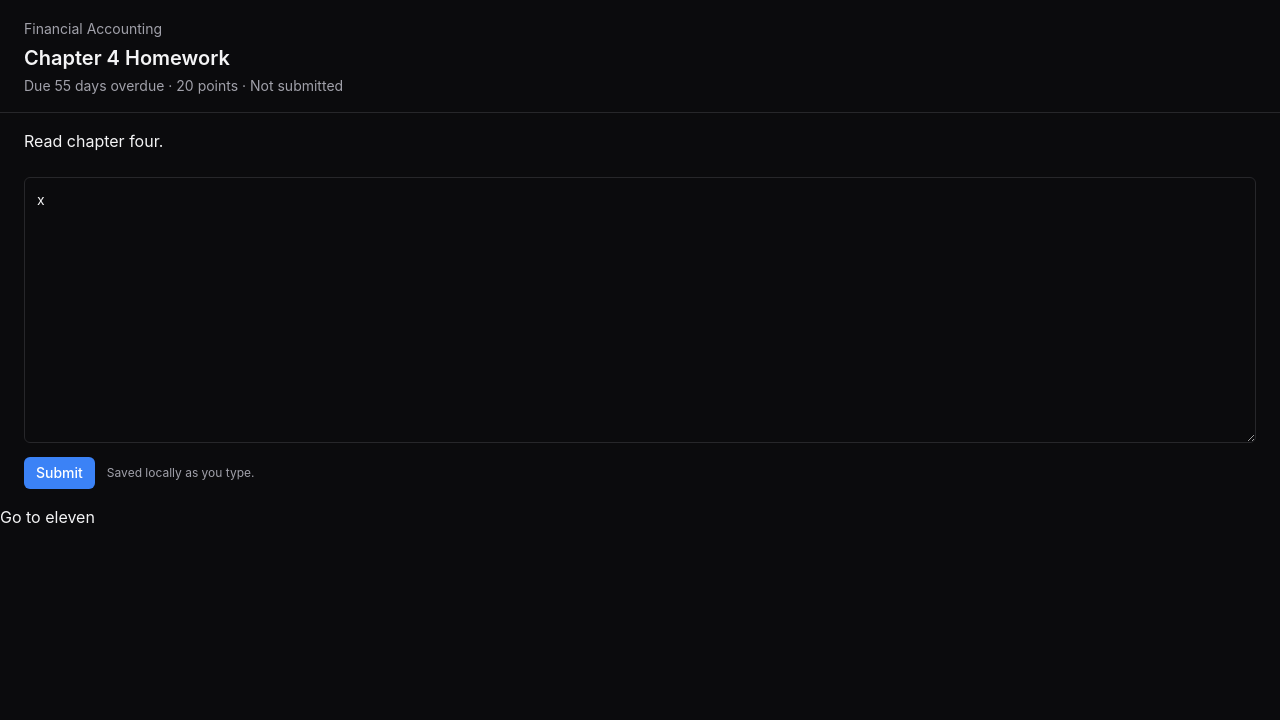
Assignment route — submission wiring › clears a stale outcome banner when navigating to a different assignment
Click the button "Submit".
click(59, 473)  # box left=24, top=457, right=95, bottom=489
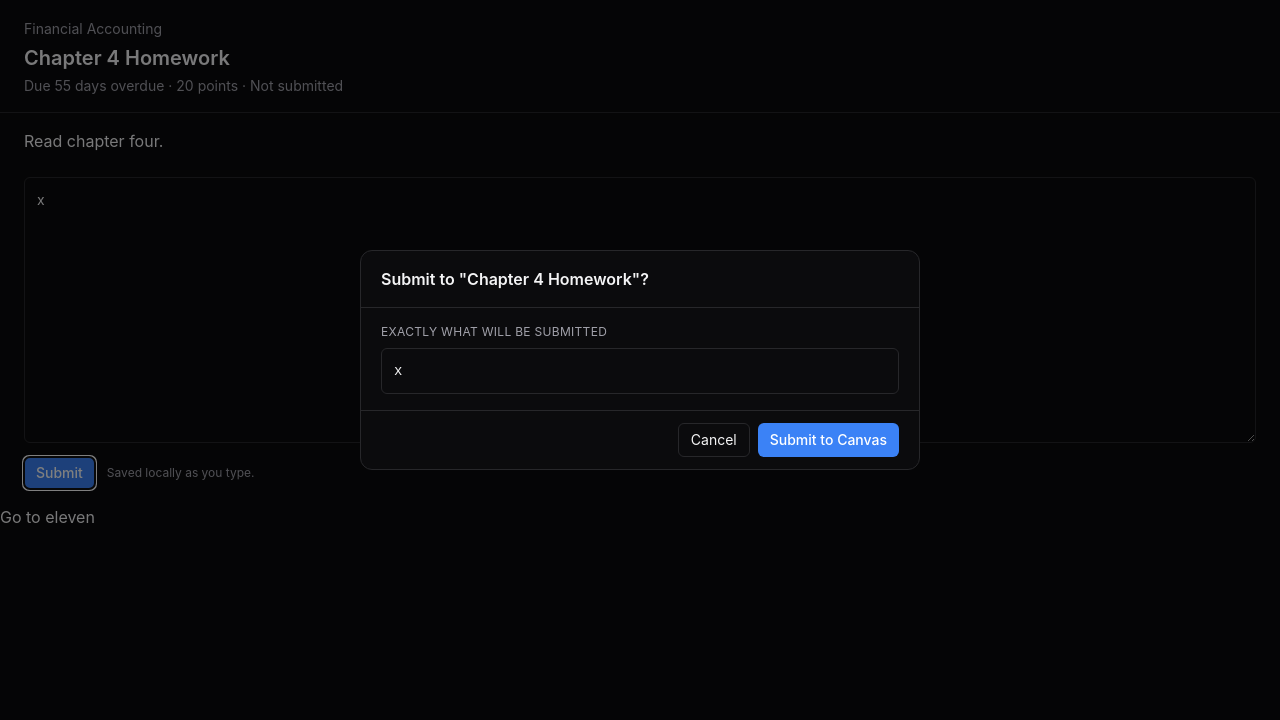
Click the button "Submit to Canvas".
click(828, 440)  # box left=758, top=423, right=899, bottom=457
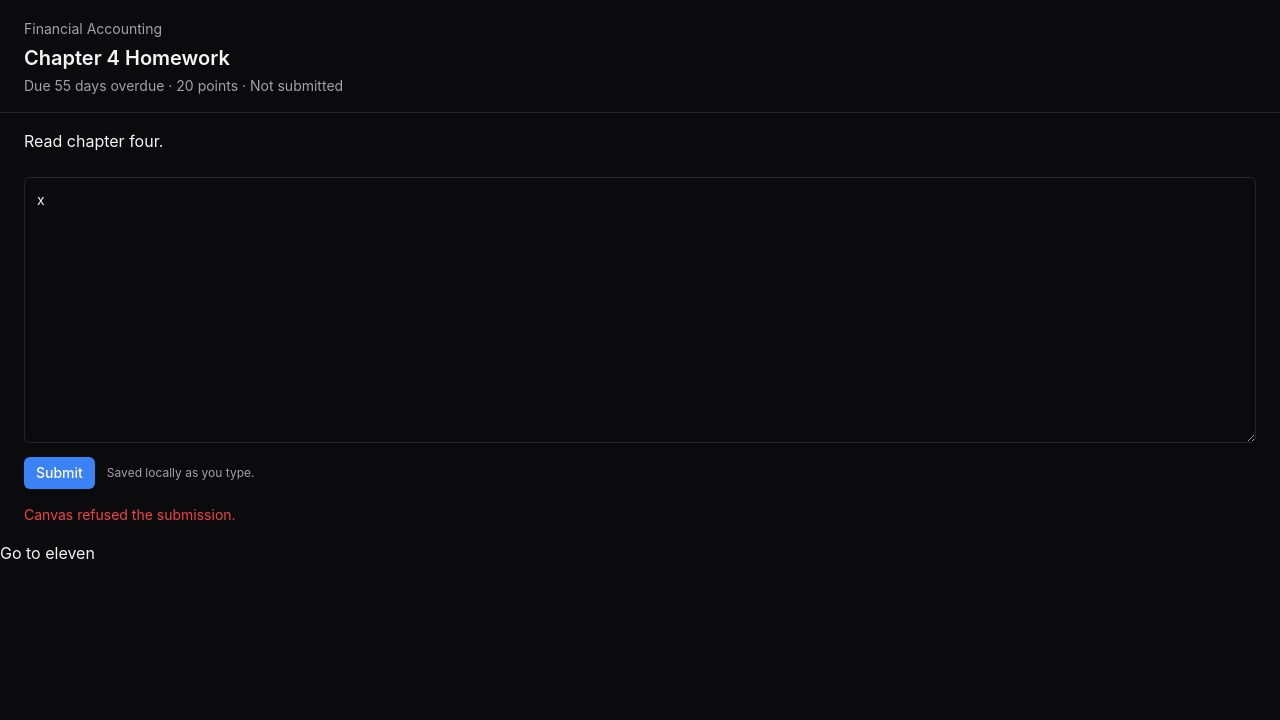
Check: the text "Canvas refused the submission." is shown, box left=24, top=506, right=236, bottom=523
Click the link "Go to eleven".
click(47, 553)  # box left=0, top=543, right=95, bottom=563
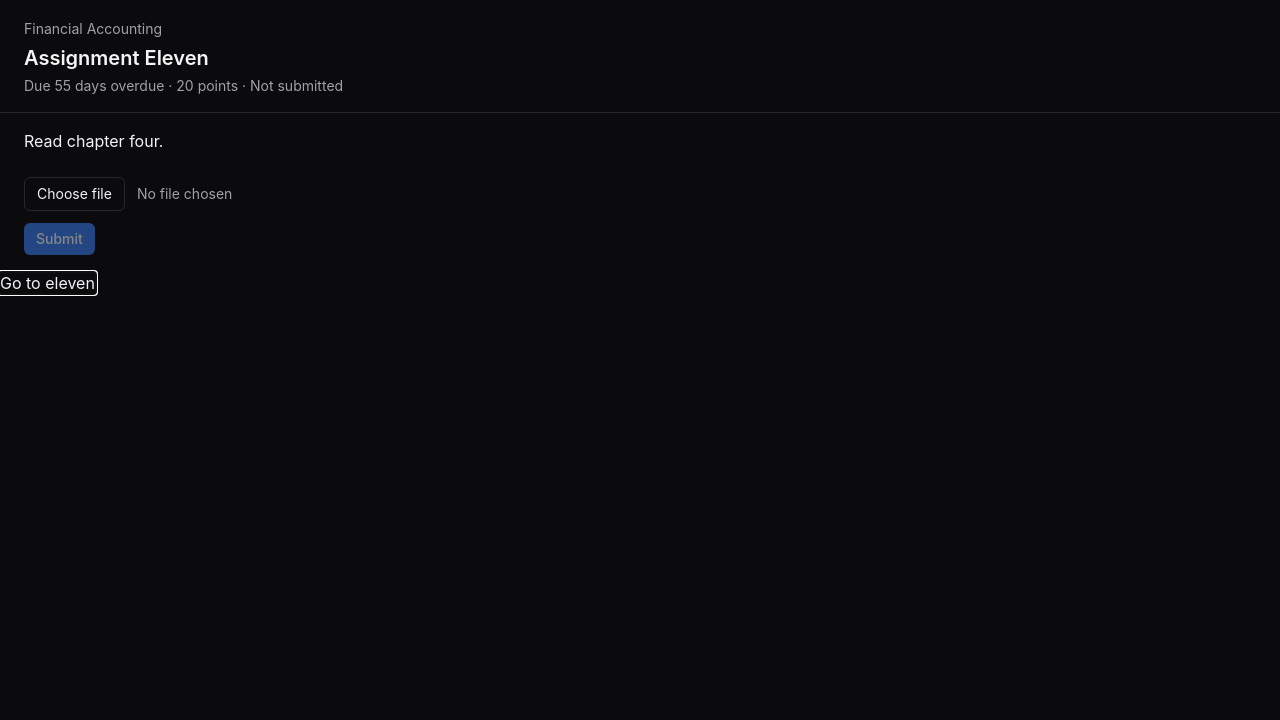
Check: the heading "Assignment Eleven" is shown, box left=24, top=46, right=209, bottom=70
Check: the text "Canvas refused" is gone
Check: the message "Canvas refused the submission." is gone
